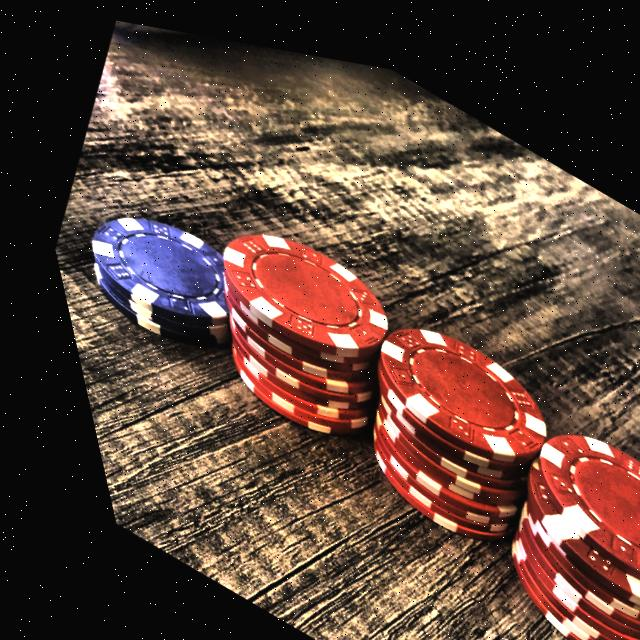Chip: (270, 250, 600, 590), (125, 156, 445, 484), (401, 334, 640, 640), (49, 175, 262, 377)
